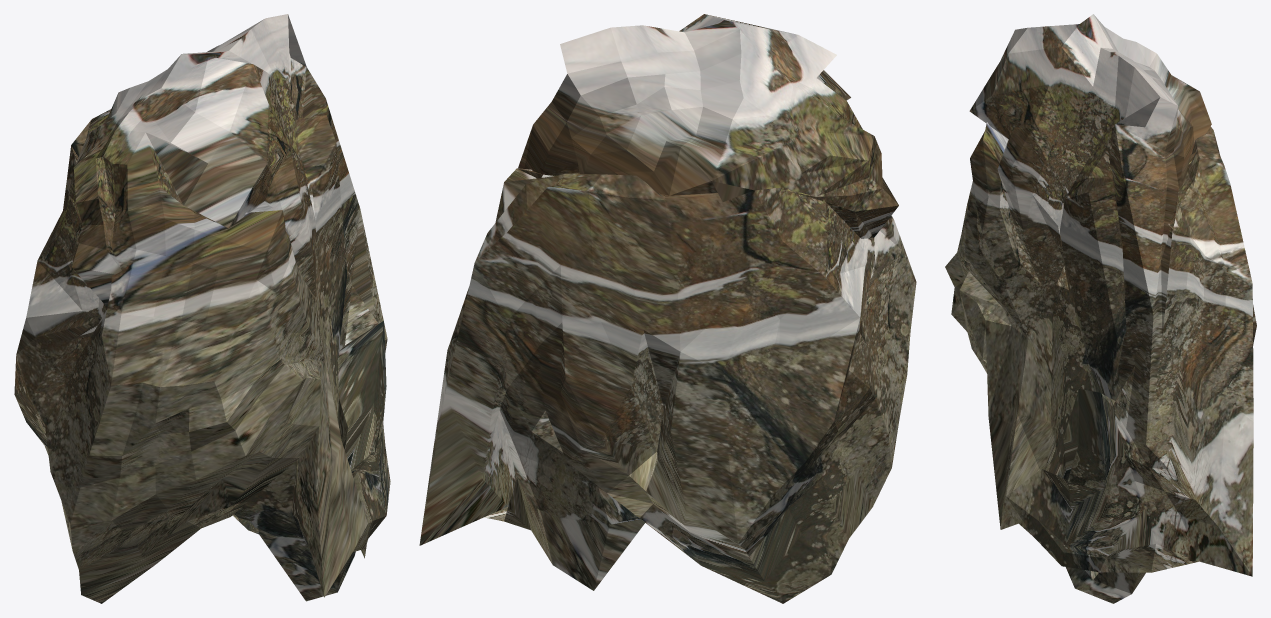
File: Roca2.fbx
The picture shows the model from 3 angles, left to right: view 1: azimuth 30°, elevation 25°; view 2: azimuth 150°, elevation 25°; view 3: azimuth 270°, elevation 25°; orthographic projection. The views are drawn at different scales.
Parts seen in each view (by area): view 1: Sphere.010; view 2: Sphere.010; view 3: Sphere.010.
Boxes of the visible parts, x1,y1,x2,y2 form: Sphere.010: (14,14,390,603); Sphere.010: (419,14,916,603); Sphere.010: (945,14,1256,603).
Size of the model in its own units: 1522 by 2243 by 1196.
Materials: 1 (1 with a texture image).
